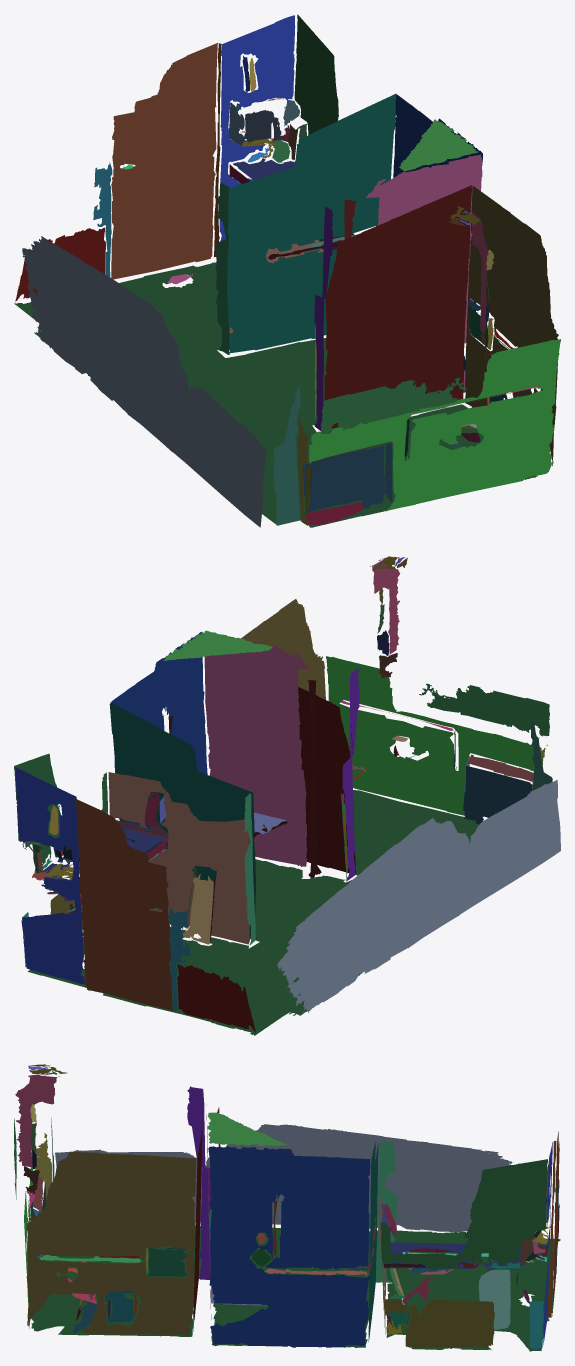
The picture shows the model from 3 angles, top to bottom: view 1: azimuth 30°, elevation 25°; view 2: azimuth 150°, elevation 25°; view 3: azimuth 270°, elevation 25°; orthographic projection. The views are drawn at different scales.
Parts seen in each view (by area): view 1: scene0084_00_reference; view 2: scene0084_00_reference; view 3: scene0084_00_reference.
Boxes of the visible parts, x1=… form: scene0084_00_reference: x1=14, y1=14, x2=560, y2=527; scene0084_00_reference: x1=14, y1=556, x2=560, y2=1035; scene0084_00_reference: x1=14, y1=1064, x2=560, y2=1351.
Bounding box in the file's own units: 2.98 × 2.4 × 5.09.
